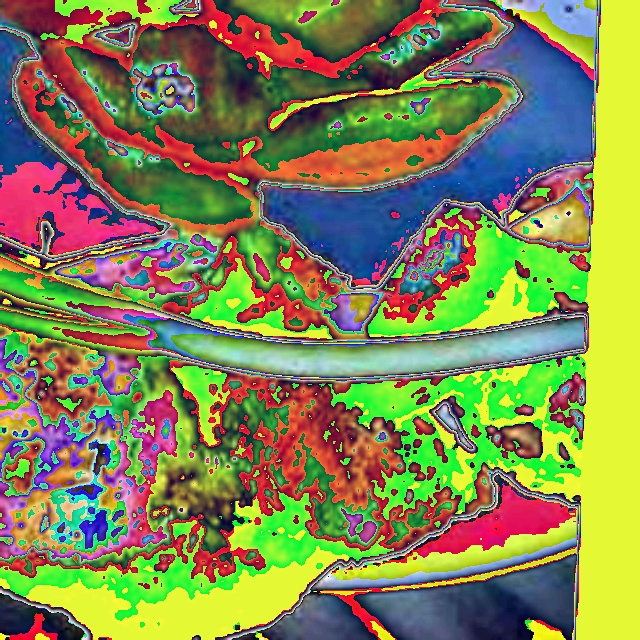background: (0, 0, 593, 640)
